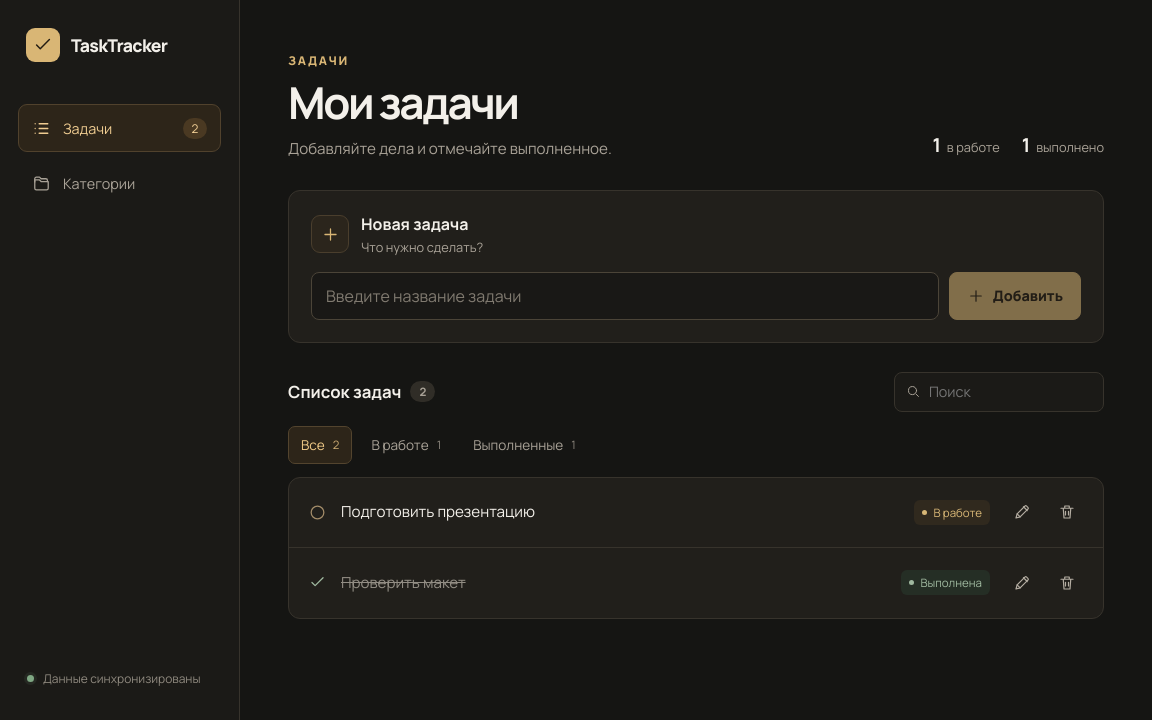
Test: TaskTracker › keeps the task visible when DELETE fails
Expected: the text "Подготовить презентацию" is shown, [341,501,535,522]
Click the button named "Удалить задачу: Подготовить презентацию": (1067, 512) [1048,493,1086,531]
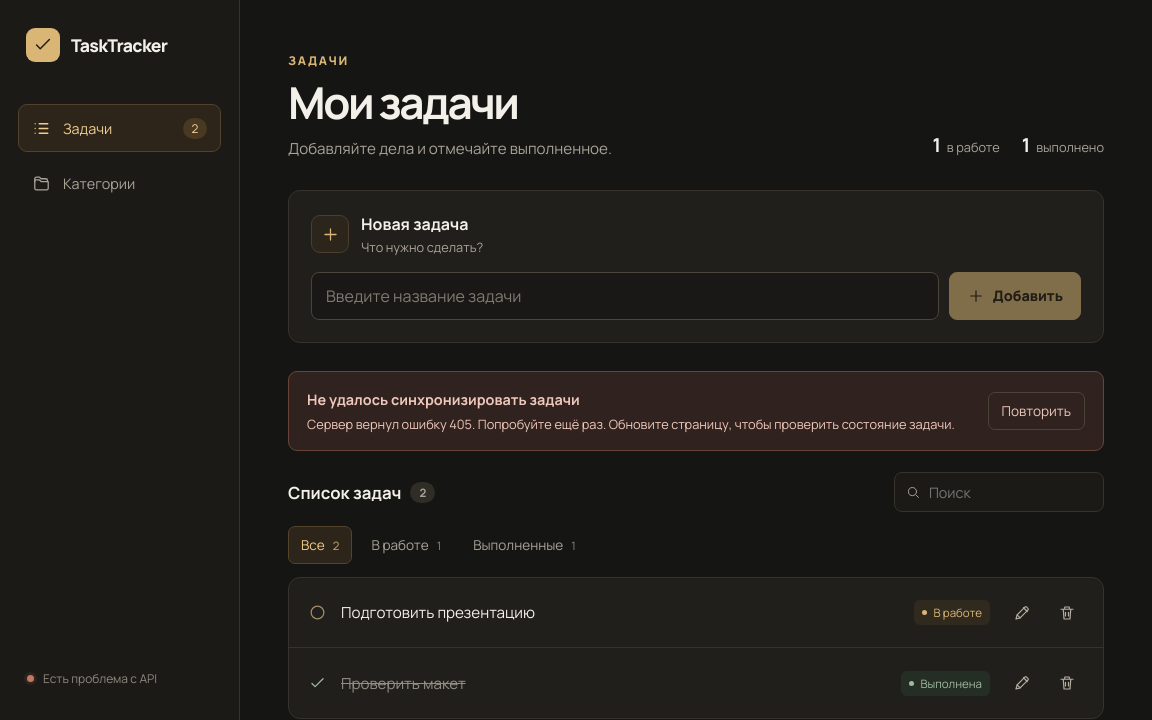
Expected: the text "Подготовить презентацию" is shown, [341,602,535,623]
Now the message is shown, box [288,371,1104,451]
